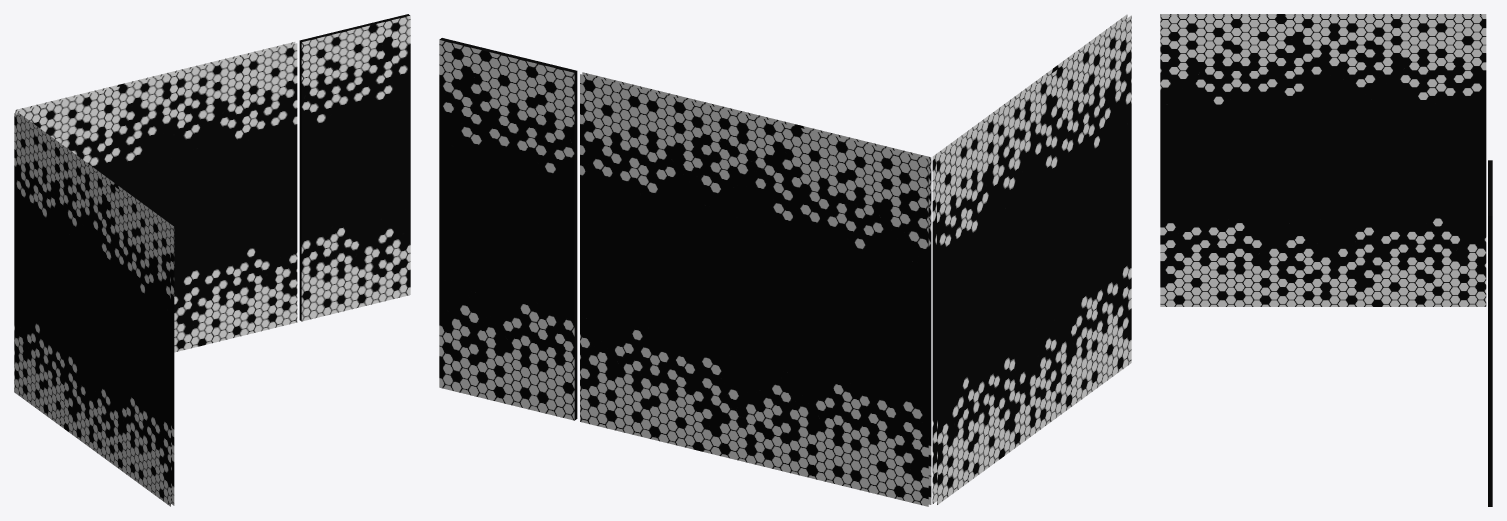
File: window (3).fbx
The picture shows the model from 3 angles, left to right: view 1: azimuth 30°, elevation 25°; view 2: azimuth 150°, elevation 25°; view 3: azimuth 270°, elevation 25°; orthographic projection. The views are drawn at different scales.
Visible parts, largest first — view 1: Cube.021, Cube.002, Cube.041; view 2: Cube.021, Cube.002, Cube.041; view 3: Cube.002, Cube.041.
Part boxes in pixels (x1,y1,x2,y2): Cube.021: [15, 42, 297, 352]; Cube.002: [14, 112, 174, 506]; Cube.041: [299, 14, 410, 321]; Cube.021: [580, 72, 931, 506]; Cube.002: [932, 14, 1131, 504]; Cube.041: [439, 38, 577, 420]; Cube.002: [1160, 14, 1486, 306]; Cube.041: [1488, 160, 1492, 506].
Bounding box in the file's own units: 578 × 389 × 402.
